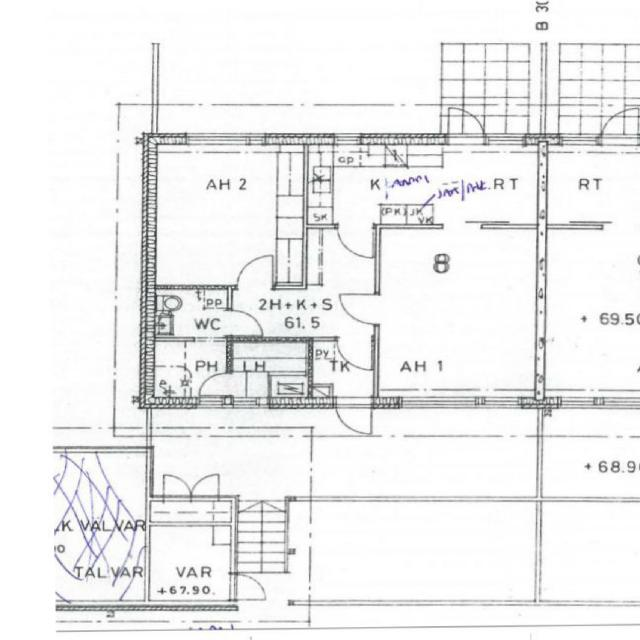door: (337, 397, 372, 436), (449, 104, 483, 144), (340, 294, 380, 323), (338, 224, 373, 257), (237, 256, 272, 288), (338, 337, 372, 369), (228, 310, 262, 336), (232, 575, 267, 599), (191, 472, 219, 500), (163, 472, 191, 500), (200, 373, 232, 396)
